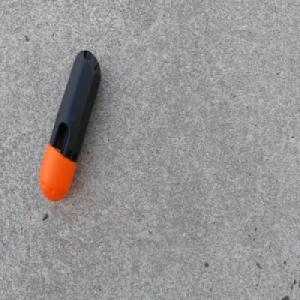PlasticPart: (40, 48, 103, 203)
